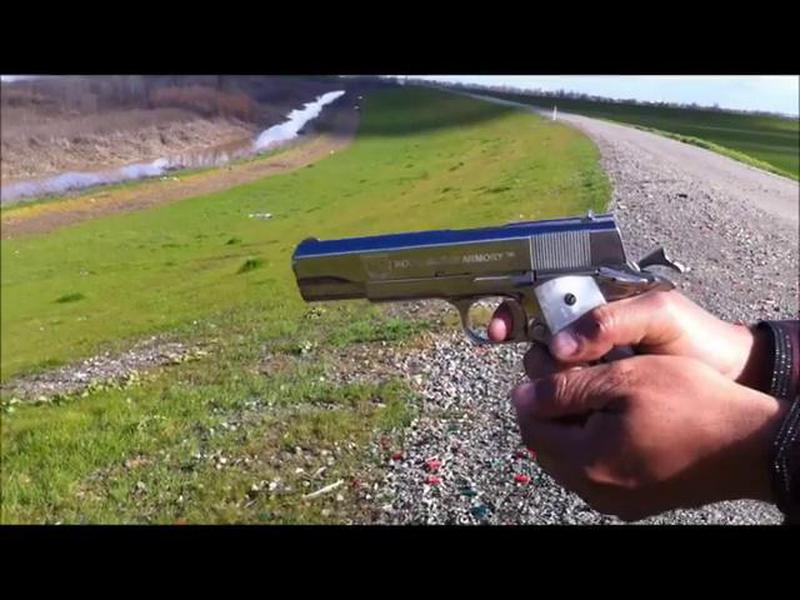Pistola: (231, 178, 684, 410)
